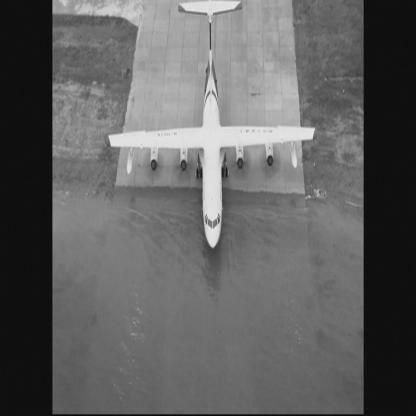AG600: (106, 1, 319, 251)
